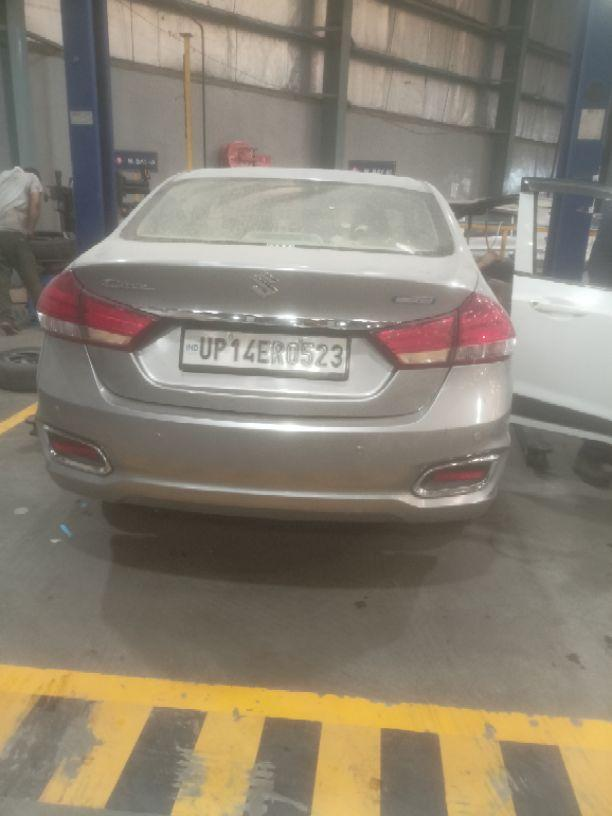license_plate: (177, 324, 350, 380)
